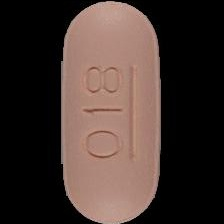54868-5409: (0, 0, 224, 224)
